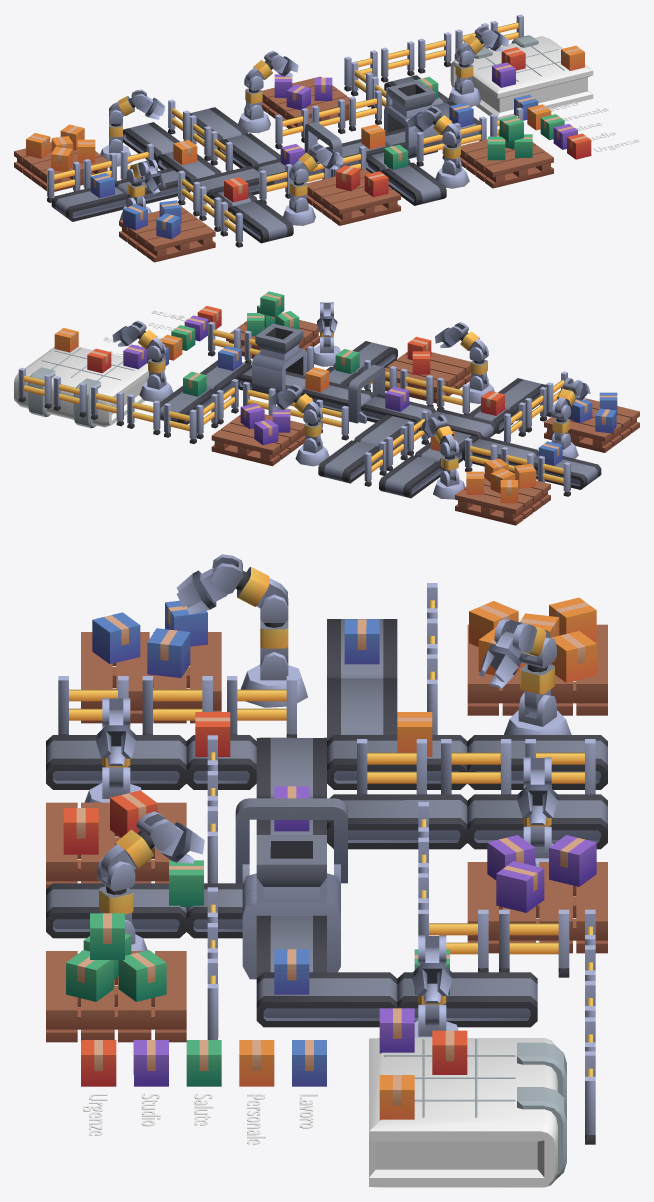
Rendered from PlanItPreview-transformed.glb.
3 views of the same model, one above another, from view 1: azimuth 30°, elevation 25°; view 2: azimuth 150°, elevation 25°; view 3: azimuth 270°, elevation 25° (orthographic). The views are drawn at different scales.
Visible parts, largest first — view 1: robot-arm-b, Pallet_Small, bookA, MeshInstance3D7; view 2: robot-arm-b, Pallet_Small, bookA; view 3: robot-arm-b, Pallet_Small, bookA, MeshInstance3D7, MeshInstance3D.
Part boxes in pixels (x1,y1,x2,y2): robot-arm-b: (26, 14, 591, 247); Pallet_Small: (14, 76, 553, 262); bookA: (450, 35, 593, 119); MeshInstance3D7: (549, 102, 639, 151); robot-arm-b: (18, 291, 617, 503); Pallet_Small: (211, 320, 639, 525); bookA: (14, 346, 148, 428); robot-arm-b: (46, 554, 607, 1144); Pallet_Small: (46, 624, 607, 1042); bookA: (369, 1038, 566, 1187); MeshInstance3D7: (82, 1093, 317, 1144); MeshInstance3D: (384, 1039, 515, 1117).
Size of the model in its own units: 17.44 by 2.74 by 8.
Materials: 7 (2 with a texture image).
